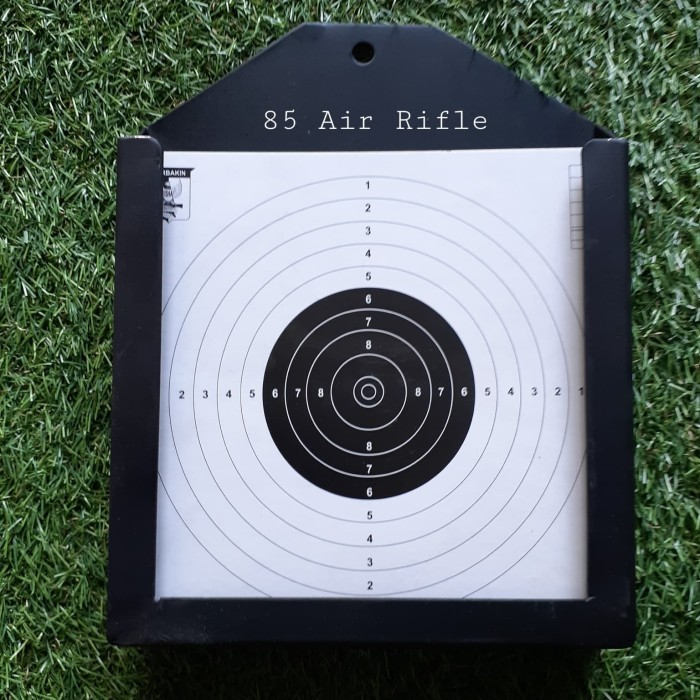target: (157, 163, 603, 613)
